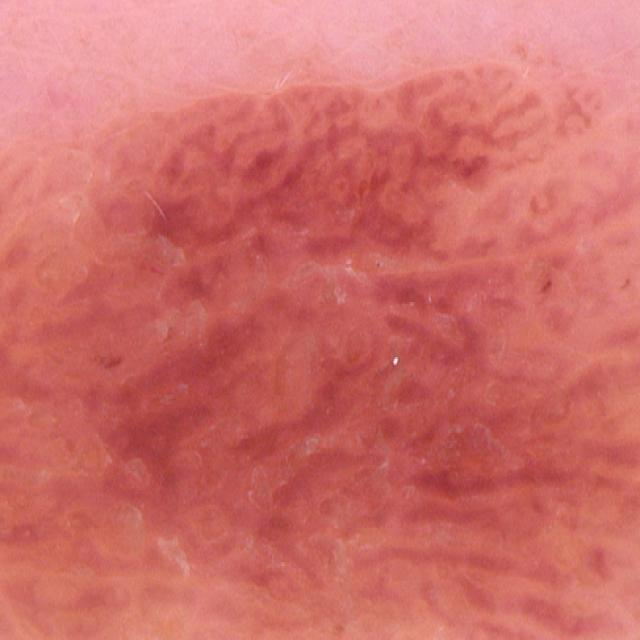Keratosis: (0, 68, 640, 640)
